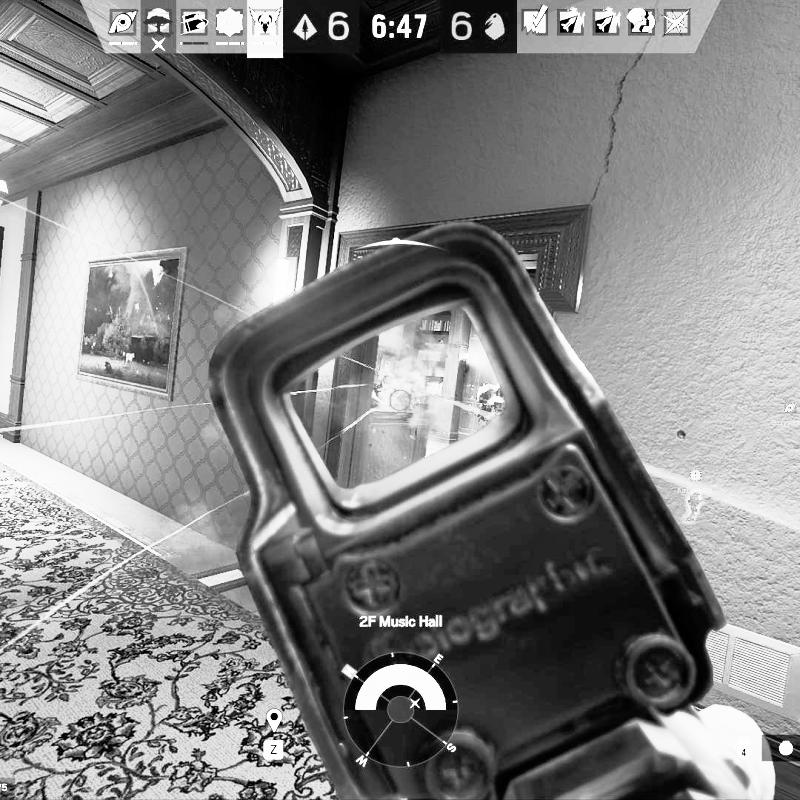Character: (371, 373, 403, 410)
Friend_label: (677, 468, 713, 495), (769, 399, 800, 427)
Head: (380, 374, 393, 386)
